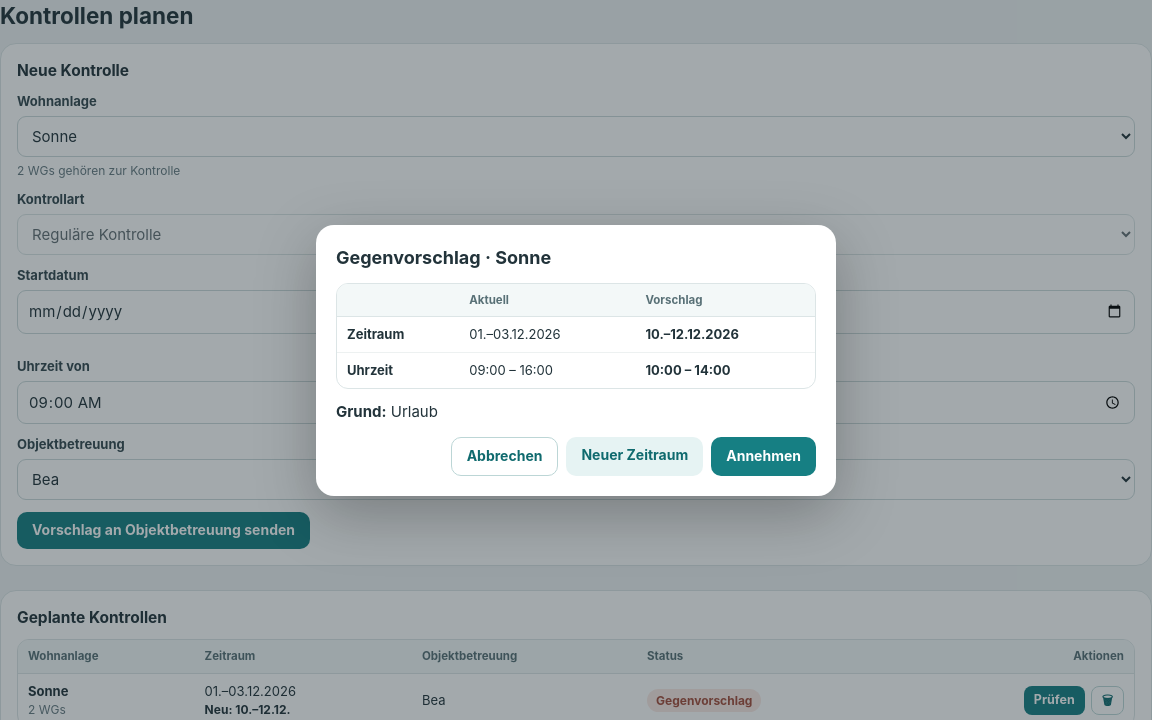
Test case: shows an error when accepting fails because of a changed period
Step 1. Click the button "Annehmen" → coordinates (764, 456), box [711,437,816,476]
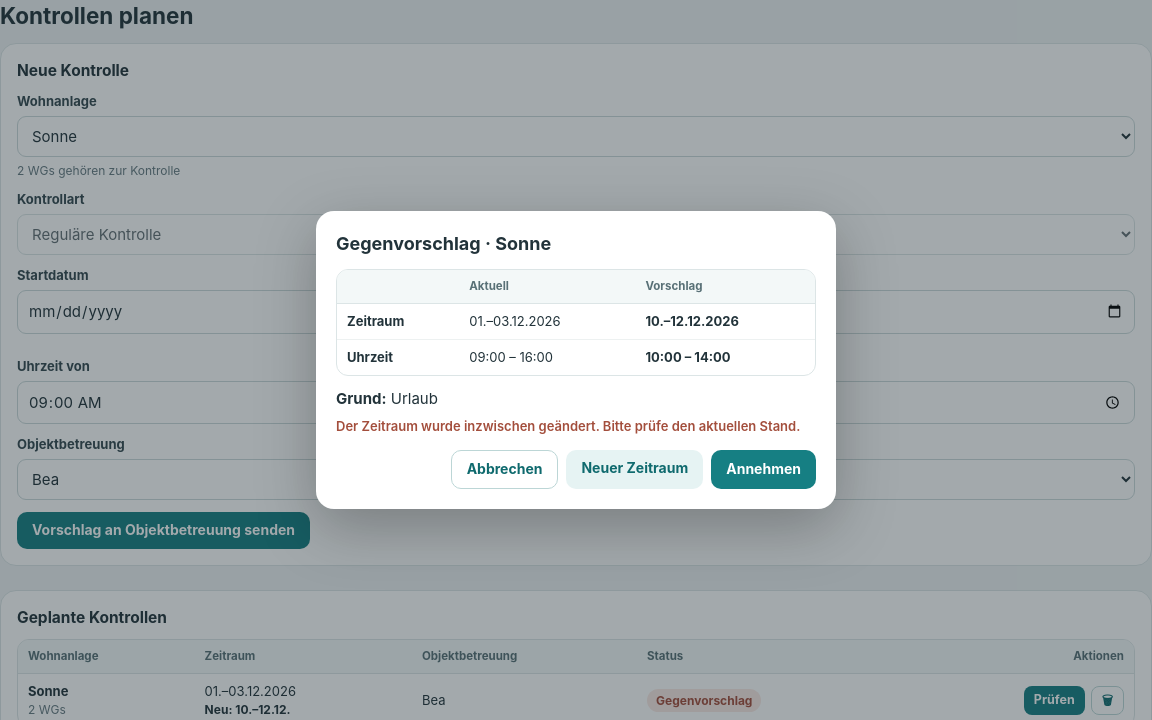
Expected: the text "Urlaub" is shown, [391,388,438,408]
Expected: the message reads "Der Zeitraum wurde inzwischen geändert. Bitte prüfe den aktuellen Stand.", [336,418,800,434]
